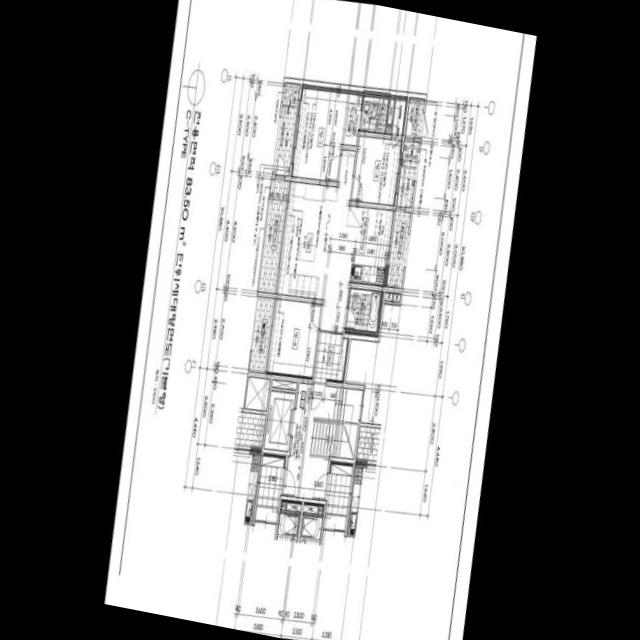background: (104, 0, 536, 640)
space_balconi: (259, 179, 288, 292), (273, 83, 299, 175), (386, 211, 410, 288), (249, 297, 273, 372), (396, 142, 418, 207)
space_bedroom: (291, 84, 347, 181), (267, 299, 320, 378), (351, 136, 401, 205)
space_dressroom: (343, 90, 362, 145)
space_elevator: (264, 390, 295, 451)
space_elevator_hall: (283, 383, 328, 500)
space_front: (314, 330, 348, 381)
space_kitchen: (338, 205, 391, 285)
space_living_room: (277, 149, 354, 333)
space_other: (404, 97, 424, 138), (391, 96, 407, 135), (271, 380, 296, 390), (387, 95, 394, 124), (392, 293, 400, 302), (384, 292, 392, 301), (386, 126, 391, 134)
space_staircase: (308, 385, 362, 458)
space_toilet: (346, 288, 380, 331), (359, 96, 388, 132)
